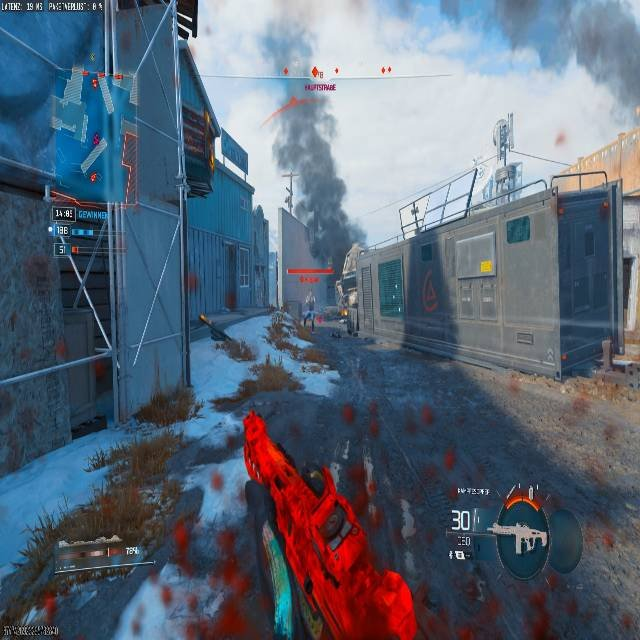player: (337, 288, 359, 338), (302, 291, 315, 327)
